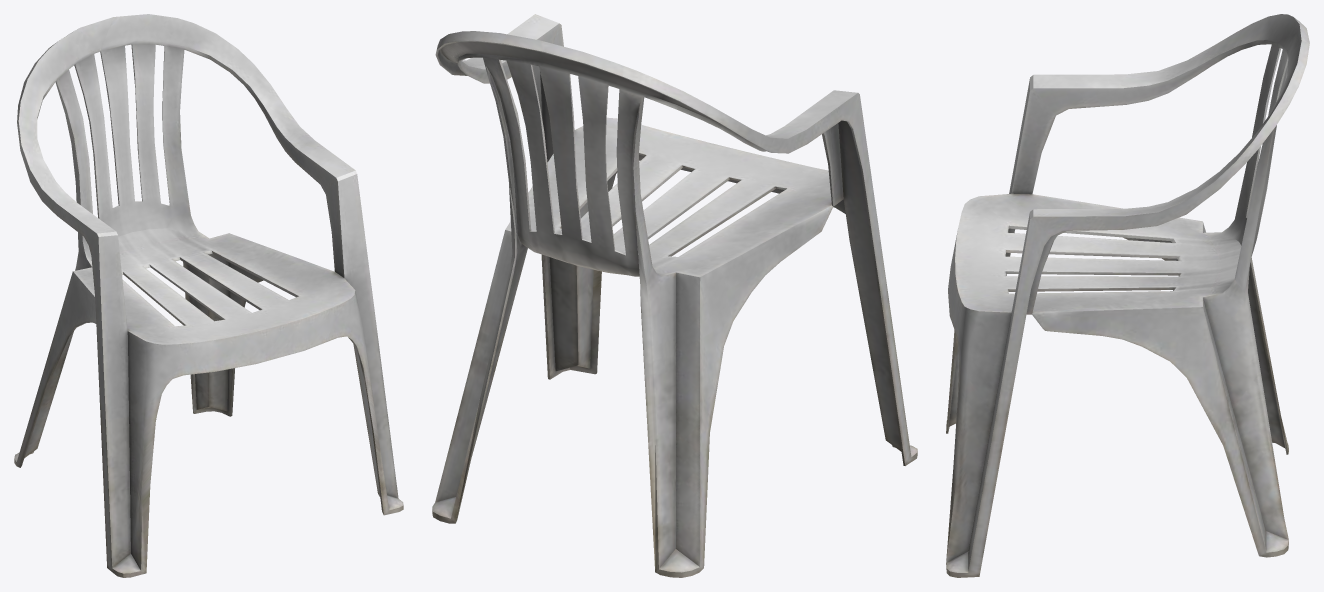
File: plastic_monobloc_chair_01.glb
The picture shows the model from 3 angles, left to right: view 1: azimuth 30°, elevation 25°; view 2: azimuth 150°, elevation 25°; view 3: azimuth 270°, elevation 25°; orthographic projection. The views are drawn at different scales.
Parts seen in each view (by area): view 1: plastic_monobloc_chair_01; view 2: plastic_monobloc_chair_01; view 3: plastic_monobloc_chair_01.
Part boxes in pixels (<box>): plastic_monobloc_chair_01: <box>14,14,403,577</box>; plastic_monobloc_chair_01: <box>432,14,917,577</box>; plastic_monobloc_chair_01: <box>946,14,1309,577</box>.
Size of the model in its own units: 0.6423 by 0.8801 by 0.6283.
Materials: 1 (1 with a texture image).
